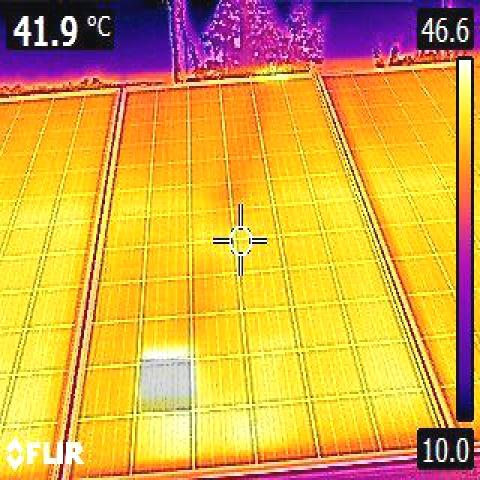fault: (141, 359, 191, 412)
